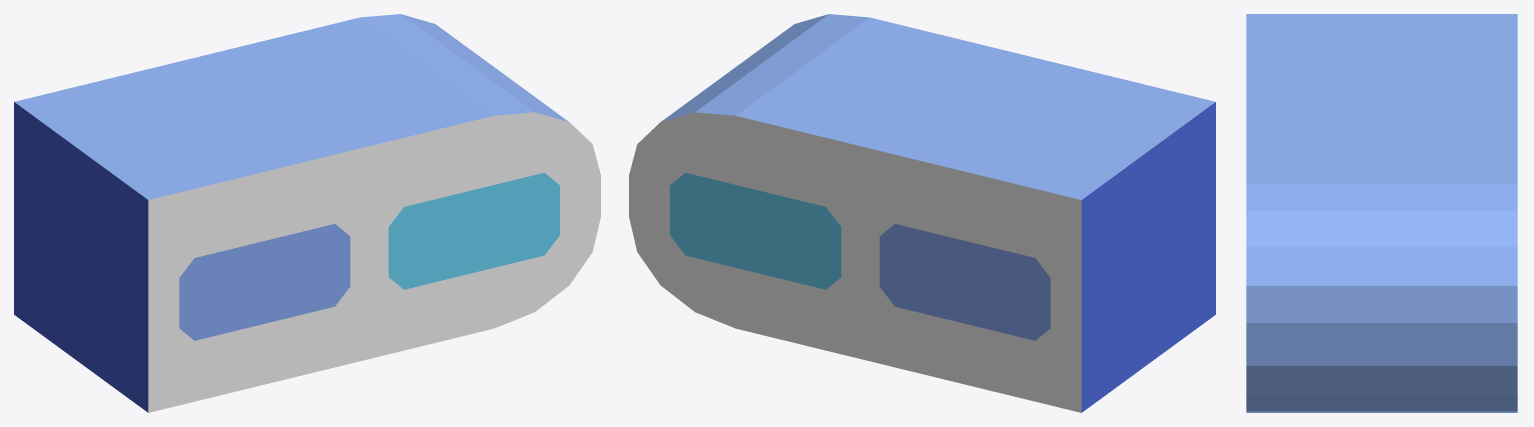
The model's file is Building_041_a.fbx.
The picture shows the model from 3 angles, left to right: view 1: azimuth 30°, elevation 25°; view 2: azimuth 150°, elevation 25°; view 3: azimuth 270°, elevation 25°; orthographic projection.
Visible parts, largest first — view 1: Building_041_a; view 2: Building_041_a; view 3: Building_041_a.
Boxes of the visible parts, x1,y1,x2,y2 form: Building_041_a: (14,14,600,412); Building_041_a: (629,14,1215,412); Building_041_a: (1246,14,1517,412).
Size of the model in its own units: 16.75 by 7.53 by 8.73.
